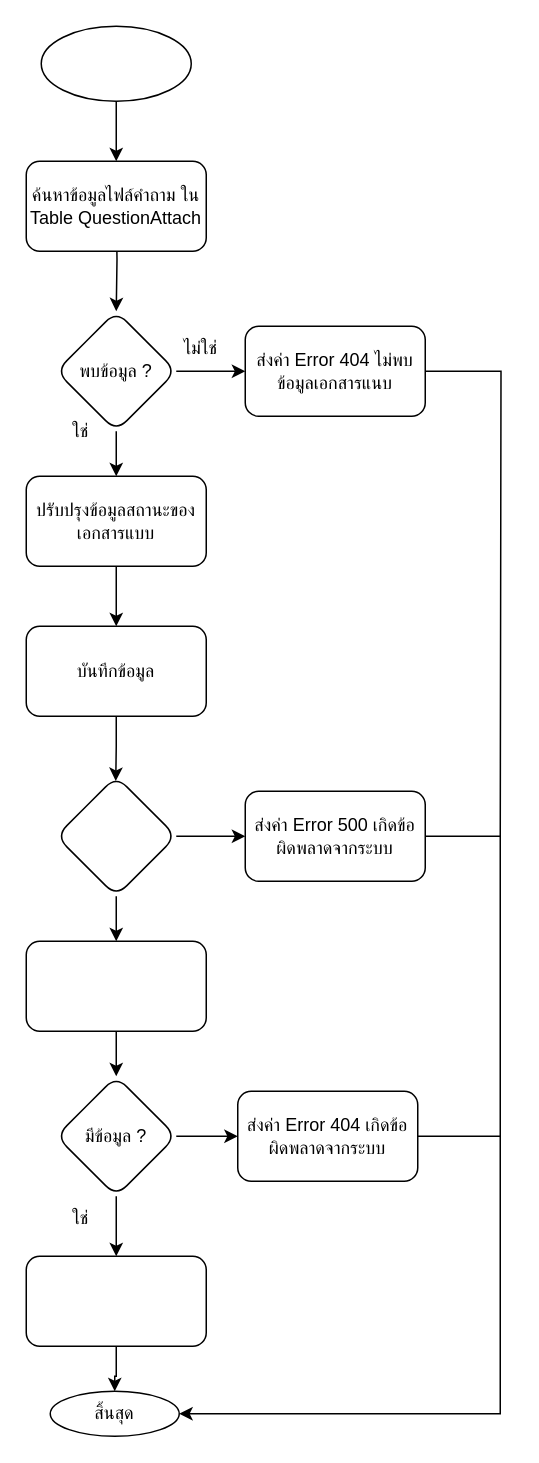
Some shapes in this 539 by 1463 pixel diagram are drawn without their labels. The shapes that lost their labels are listed below. From the top down, each one's box as (x1, y1, x2, y2) in pixels, then its label:
(40, 25, 191, 101): เริ่มต้น
(55, 775, 176, 896): สำเร็จ ?
(25, 940, 206, 1031): ค้นหาข้อมูลคำถามที่ตรงกับคำถามของเอกสารแนบ
(25, 1255, 206, 1346): ส่งข้อมูลคำถามที่ปรับปรุงเเล้วด้วย Hub : updateQuestion
